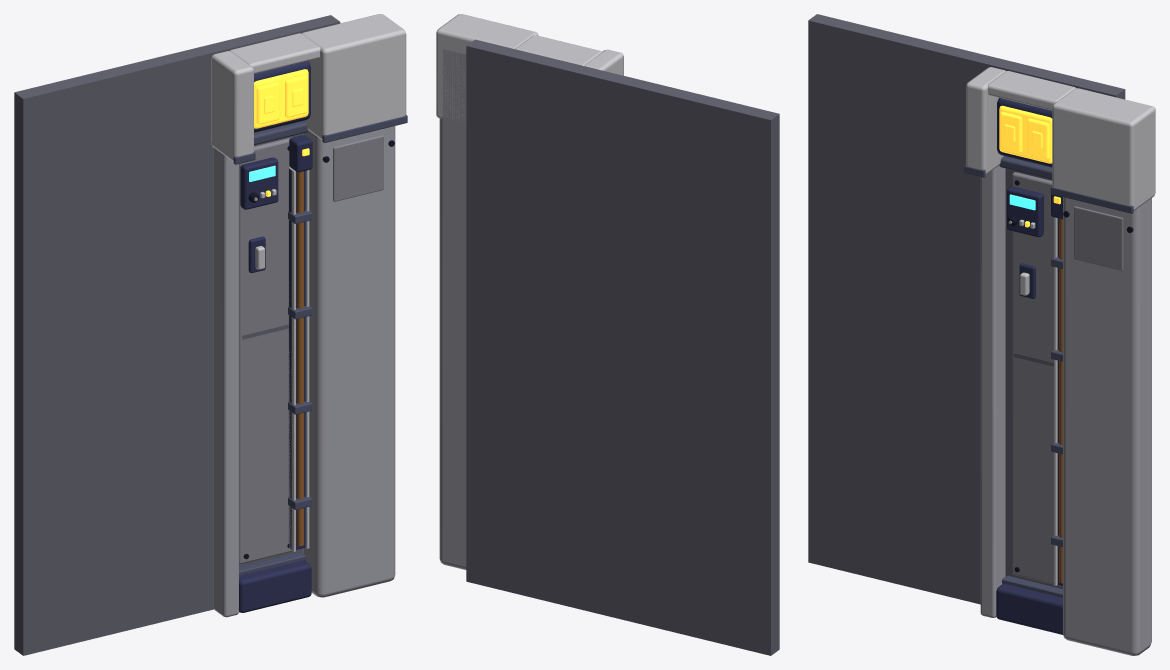
The model's file is int.wallbay.far.06.w1.glb.
3 renders of one model, left to right at view 1: azimuth 30°, elevation 25°; view 2: azimuth 150°, elevation 25°; view 3: azimuth 330°, elevation 25°, orthographic. The views are drawn at different scales.
Visible parts, largest first — view 1: int.wallbay.far.06.w1; view 2: int.wallbay.far.06.w1; view 3: int.wallbay.far.06.w1.
Part boxes in pixels (left/top/right/bottom): int.wallbay.far.06.w1: left=14, top=14, right=407, bottom=655; int.wallbay.far.06.w1: left=436, top=14, right=779, bottom=655; int.wallbay.far.06.w1: left=808, top=14, right=1155, bottom=655.
Bounding box in the file's own units: 1.13 × 1.68 × 0.192.
